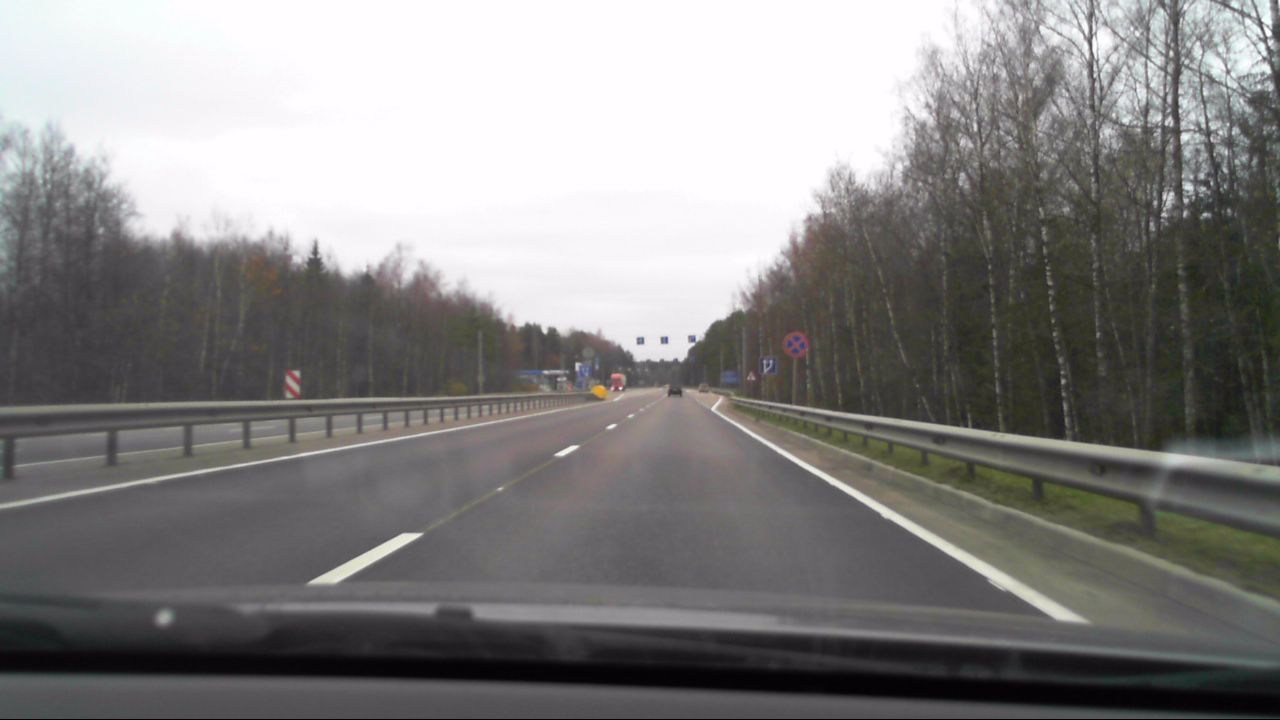No Parking: (782, 330, 809, 359)
